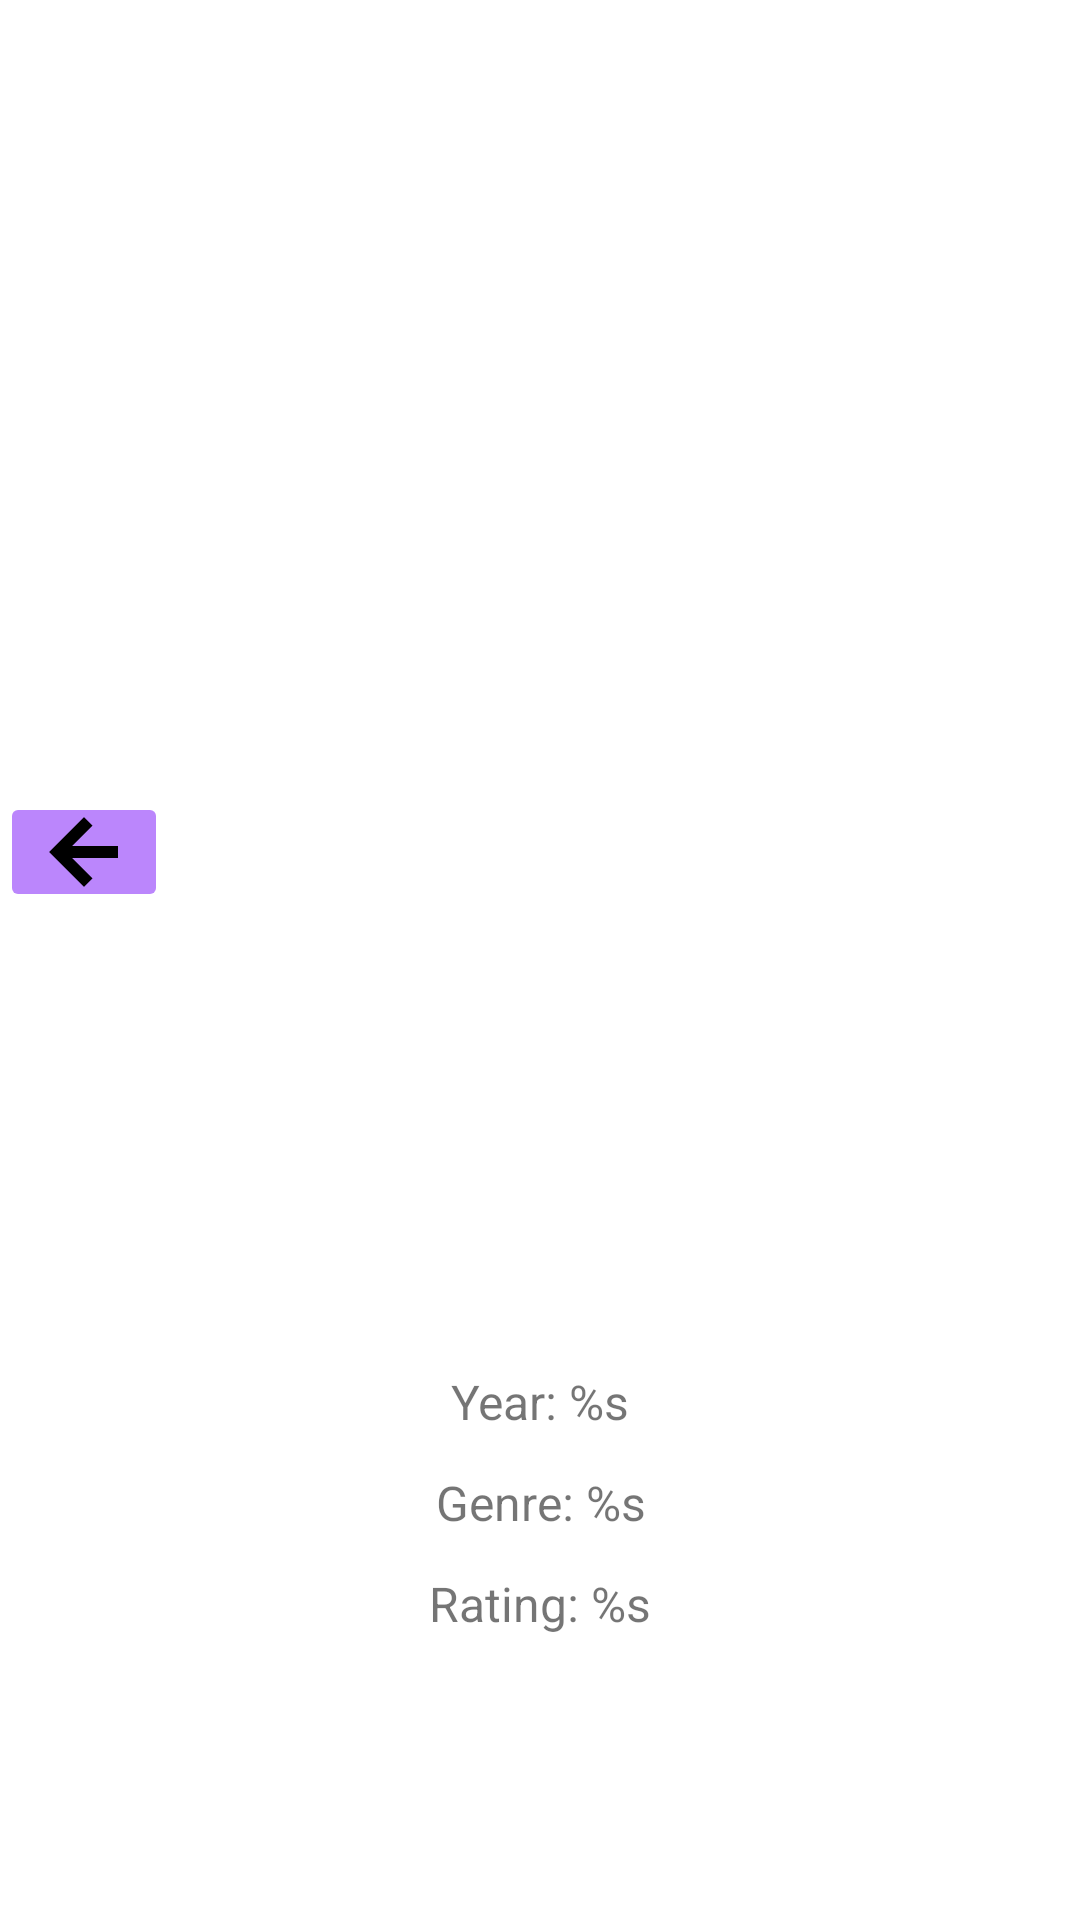

Named icons in this screenshot (1080 × 1920) and their bounding boxes, Rect(x1, y1, x2, y2):
back: Rect(12, 810, 156, 894)
